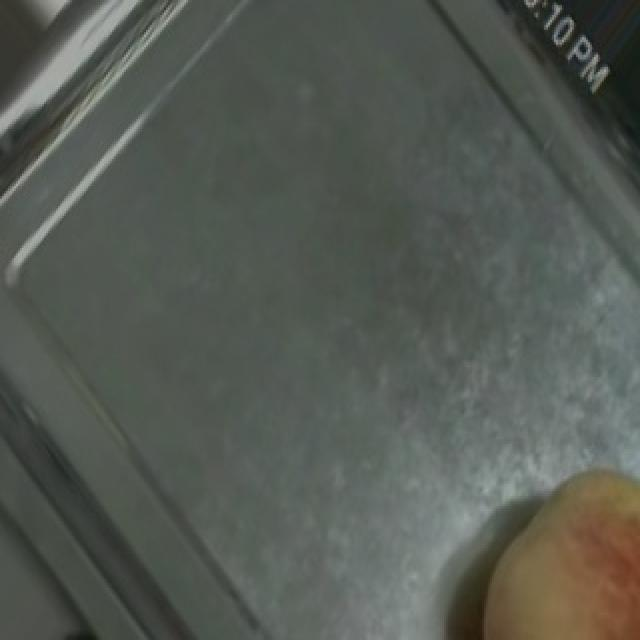Fruit: (450, 441, 640, 640)
